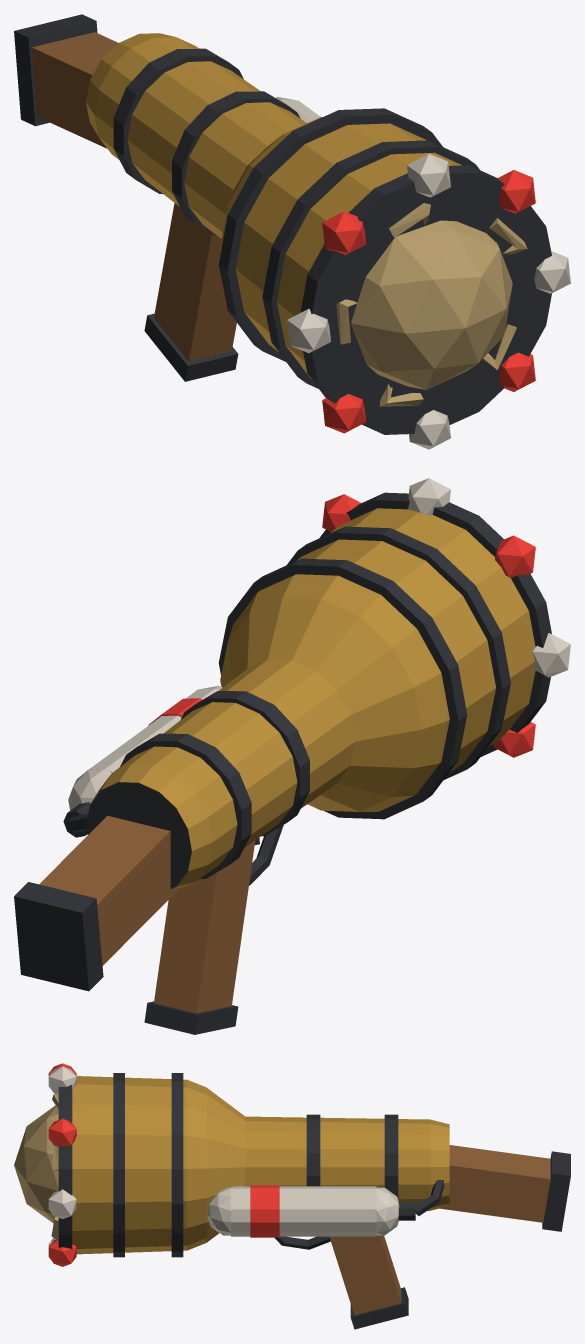
File: NetLauncher.obj
The picture shows the model from 3 angles, top to bottom: view 1: azimuth 30°, elevation 25°; view 2: azimuth 150°, elevation 25°; view 3: azimuth 270°, elevation 25°; orthographic projection. The views are drawn at different scales.
Parts seen in each view (by area): view 1: NetLauncher; view 2: NetLauncher; view 3: NetLauncher.
Part boxes in pixels (<box>): NetLauncher: <box>14,14,570,449</box>; NetLauncher: <box>14,478,570,1034</box>; NetLauncher: <box>14,1063,570,1329</box>.
Size of the model in its own units: 0.2204 by 0.2892 by 0.5727.
